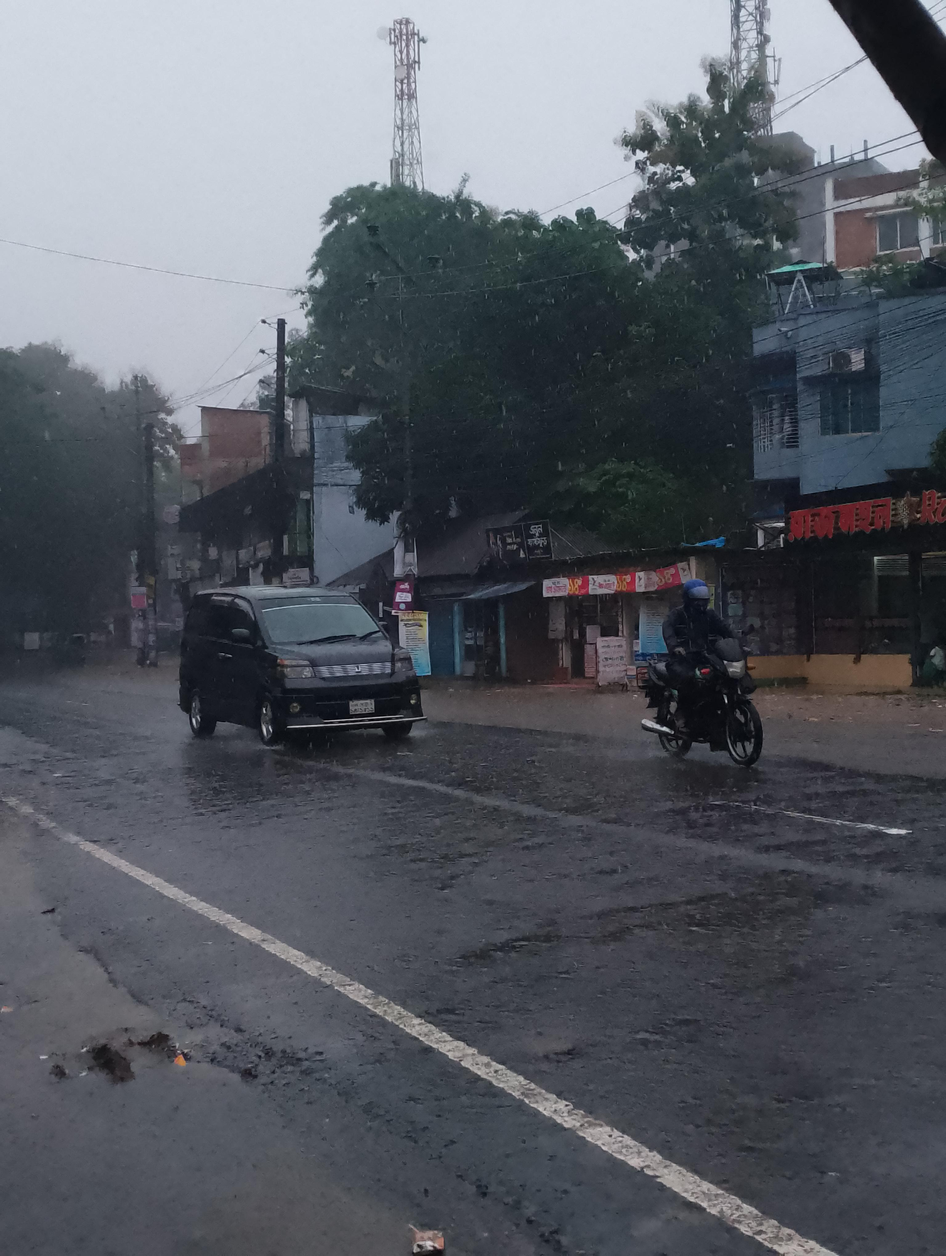Bike: (629, 562, 783, 790)
Car: (154, 557, 452, 786)
